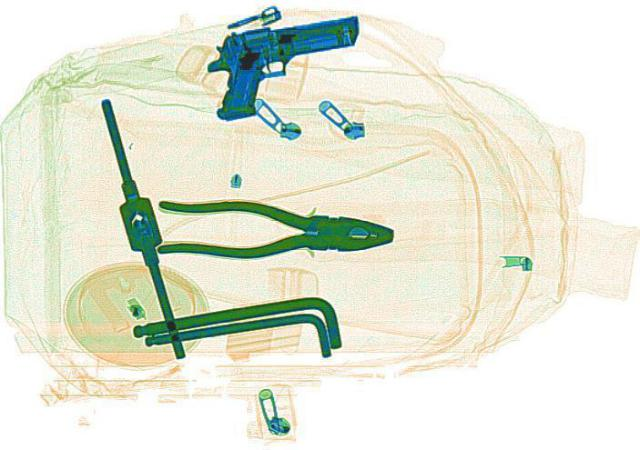Gun: (188, 12, 386, 119)
Pliers: (149, 194, 397, 266)
